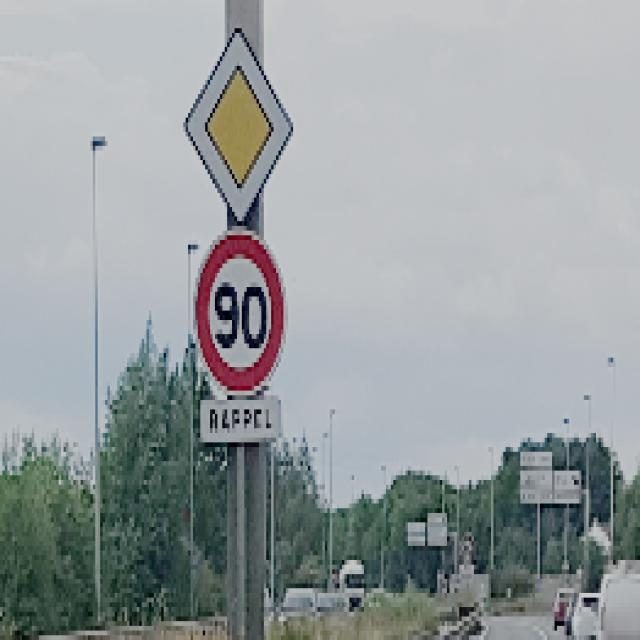speed_90: (193, 226, 288, 398)
